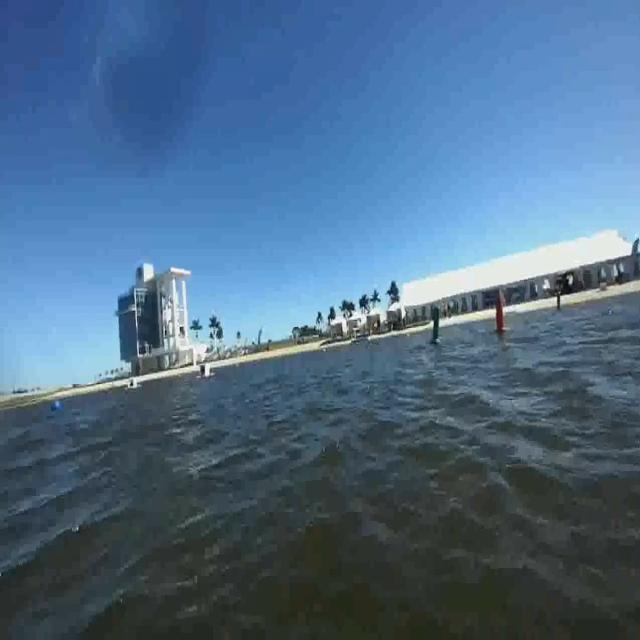blue-buoy: (51, 399, 61, 409)
green-column-buoy: (430, 298, 445, 353)
red-column-buoy: (492, 274, 509, 339)
